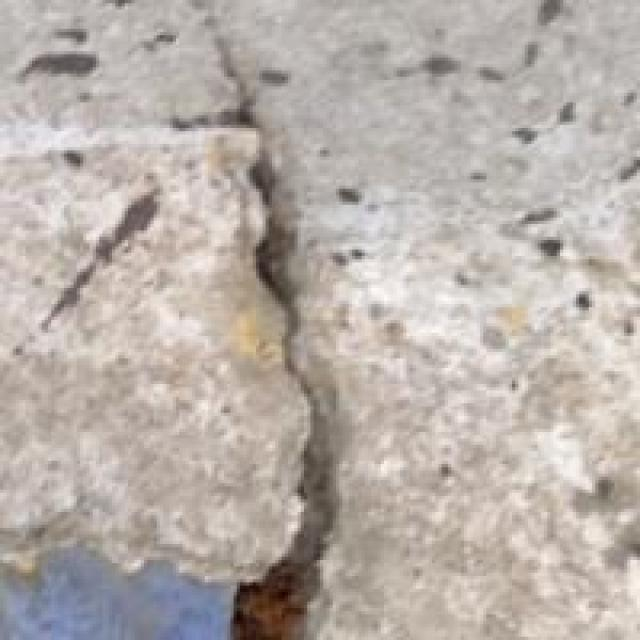Crack: (176, 16, 403, 637)
